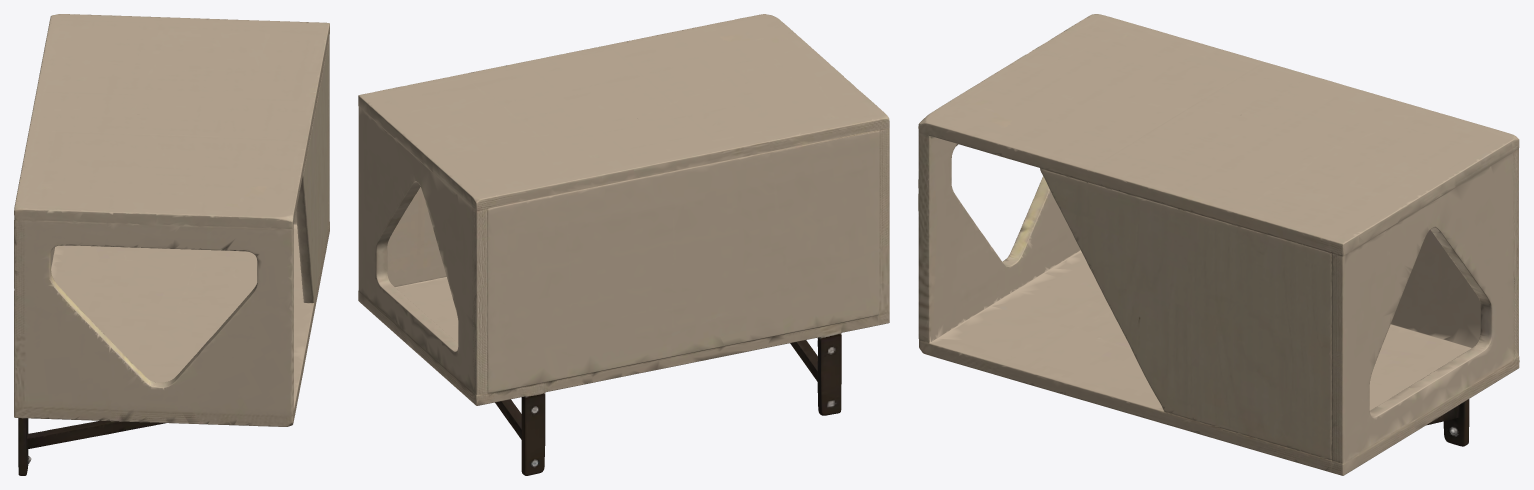
File: nicho-tunel-entrada-angulo.glb
3 views of the same model, side by side, from view 1: azimuth 30°, elevation 25°; view 2: azimuth 150°, elevation 25°; view 3: azimuth 270°, elevation 25° (orthographic). The views are drawn at different scales.
Parts seen in each view (by area): view 1: tripo_node_dfda5967-6ee8-44a6-bb6a-b5a9cb154c31; view 2: tripo_node_dfda5967-6ee8-44a6-bb6a-b5a9cb154c31; view 3: tripo_node_dfda5967-6ee8-44a6-bb6a-b5a9cb154c31.
Boxes of the visible parts, x1,y1,x2,y2 form: tripo_node_dfda5967-6ee8-44a6-bb6a-b5a9cb154c31: (14, 14, 329, 475); tripo_node_dfda5967-6ee8-44a6-bb6a-b5a9cb154c31: (358, 14, 889, 475); tripo_node_dfda5967-6ee8-44a6-bb6a-b5a9cb154c31: (918, 14, 1519, 475).
Bounding box in the file's own units: 1.06 × 0.6903 × 1.16.
Materials: 1 (1 with a texture image).
